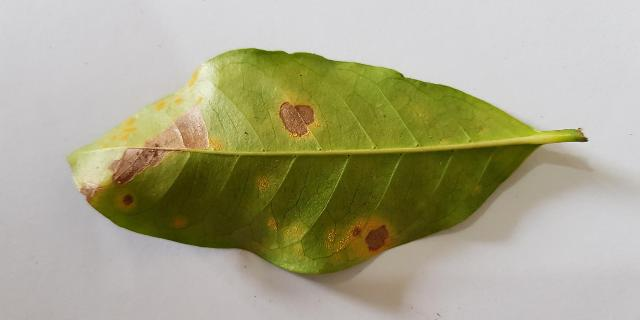cercospora: (107, 97, 221, 186), (327, 216, 398, 261), (278, 102, 318, 137), (102, 117, 137, 148), (79, 183, 104, 206), (282, 223, 306, 241), (117, 190, 135, 209), (258, 178, 269, 191), (188, 72, 197, 86), (155, 100, 166, 110), (268, 218, 276, 230), (174, 220, 185, 226), (173, 97, 182, 104)
